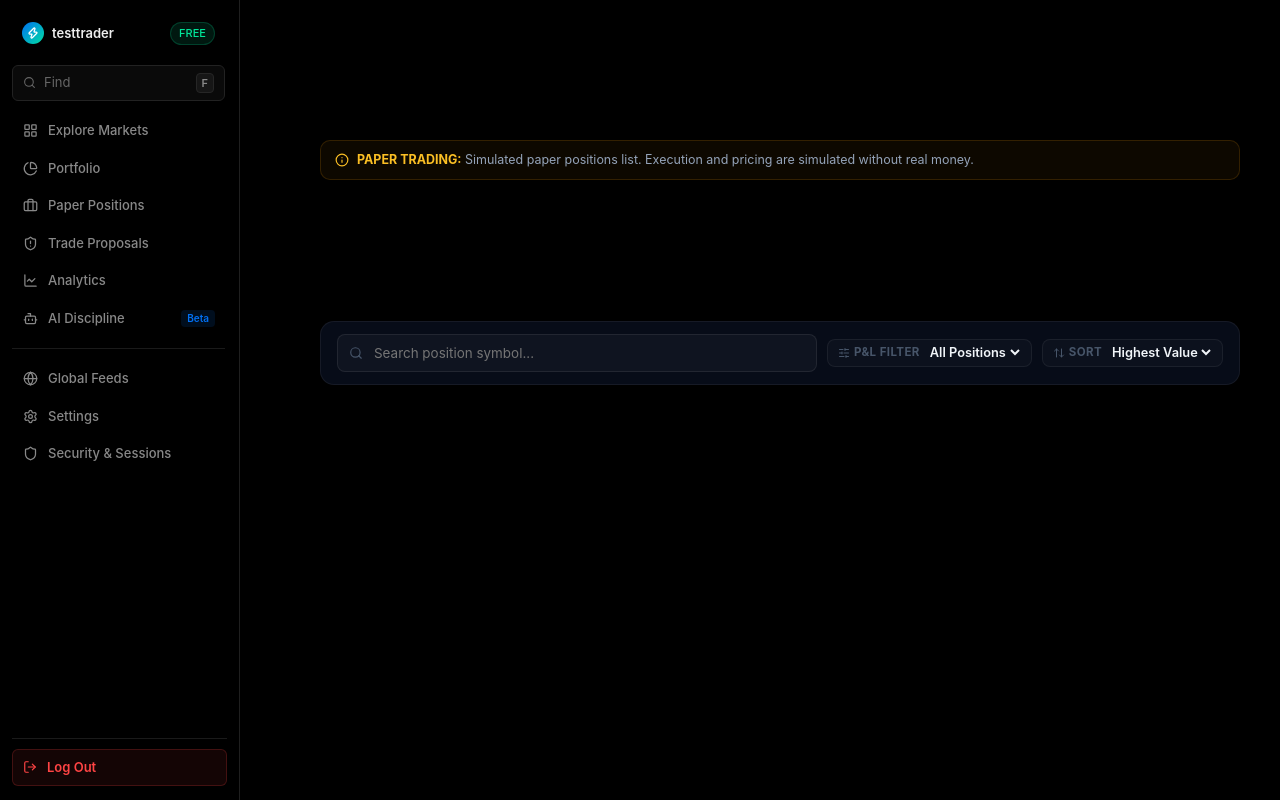
Test: PaperPositionsPage › filters positions by search input
Step 1. Type "TSLA" into the field with test id "positions-search-input" → point(577, 353), box [337,334,817,372]
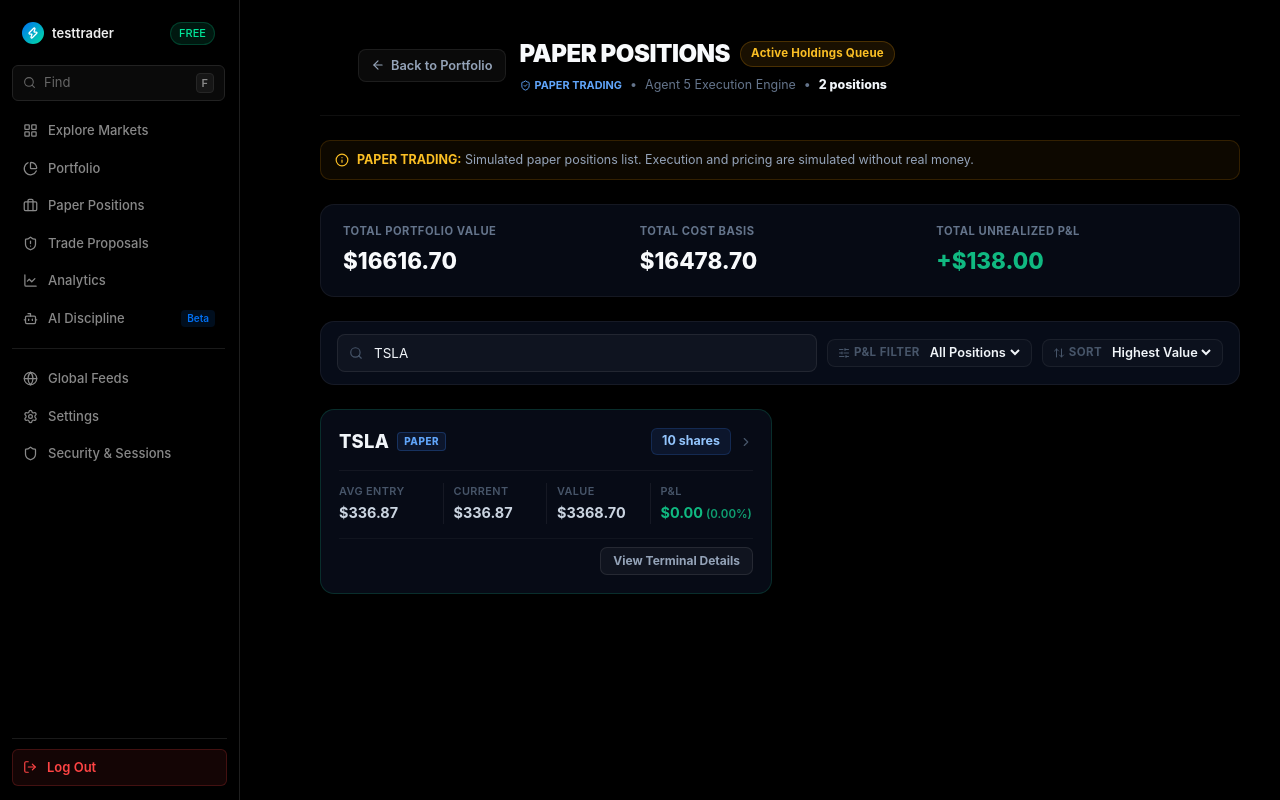
Now the element with test id "position-row-TSLA" is shown, box [320,409,772,594]
